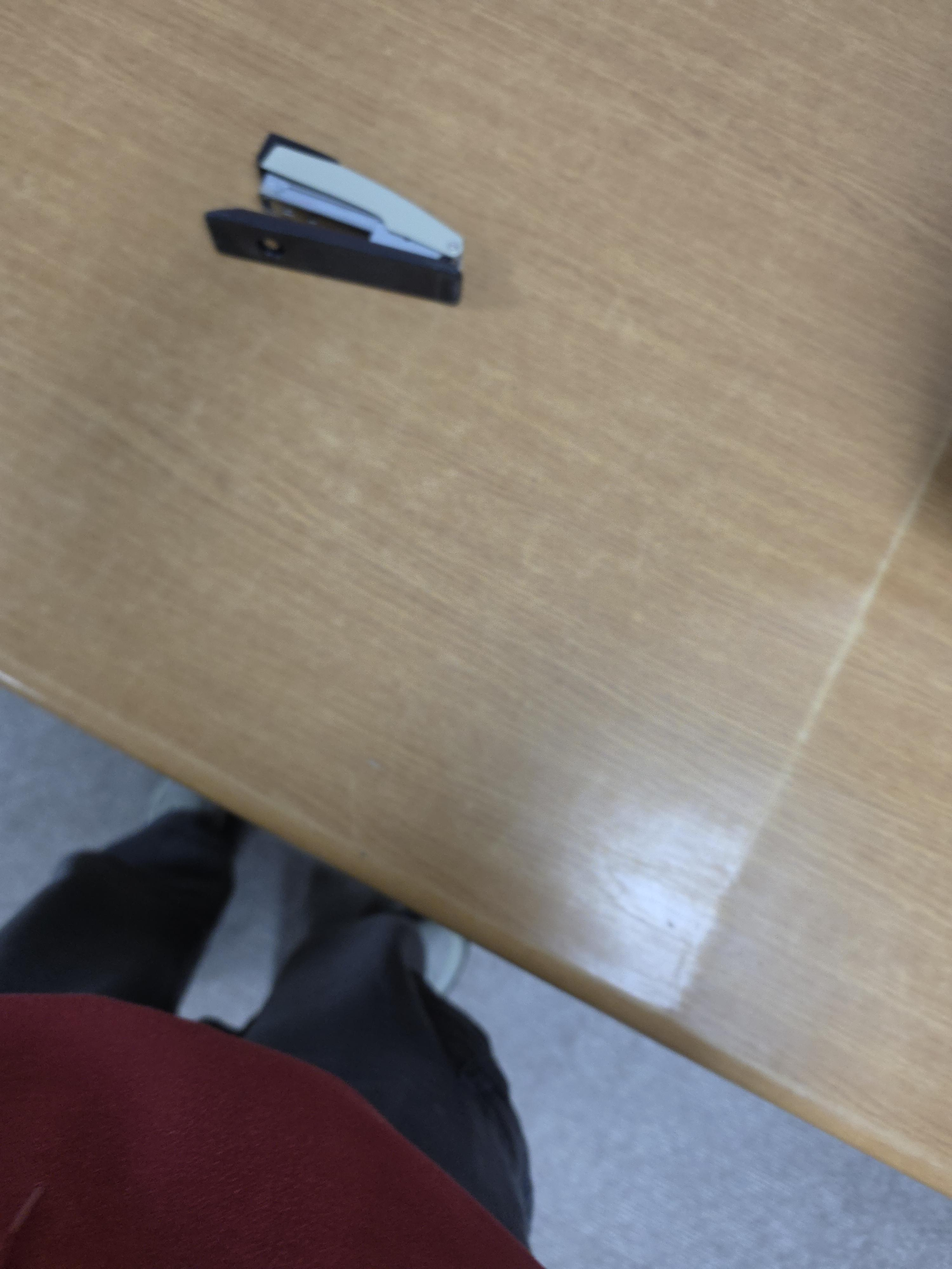stapler: (202, 131, 468, 307)
